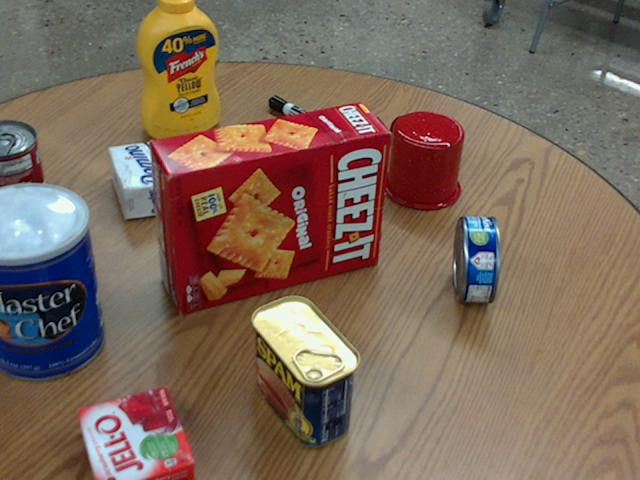cracker_box: (151, 102, 389, 311)
gelatin_box: (76, 386, 192, 479)
large_marker: (269, 94, 344, 141)
master_chef_can: (0, 183, 104, 380)
mug: (380, 111, 462, 209)
mustard_bottle: (137, 0, 219, 137)
potted_meat_can: (250, 295, 357, 446)
sugar_box: (107, 126, 279, 218)
tomato_soup_can: (0, 119, 49, 235)
tuna_fish_can: (451, 216, 499, 302)
